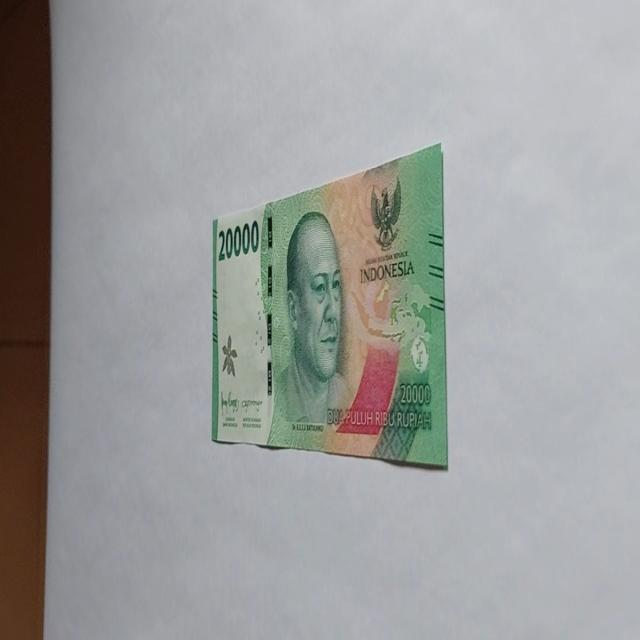dua puluh ribu rupiah: (210, 140, 448, 470), (268, 208, 356, 448)
